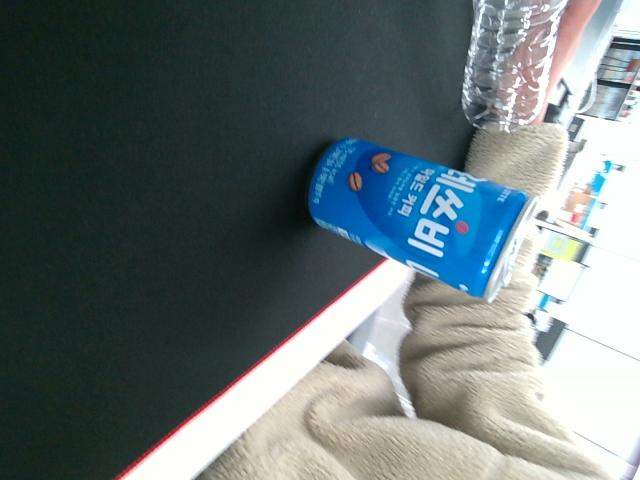letsbe: (308, 135, 540, 303)
